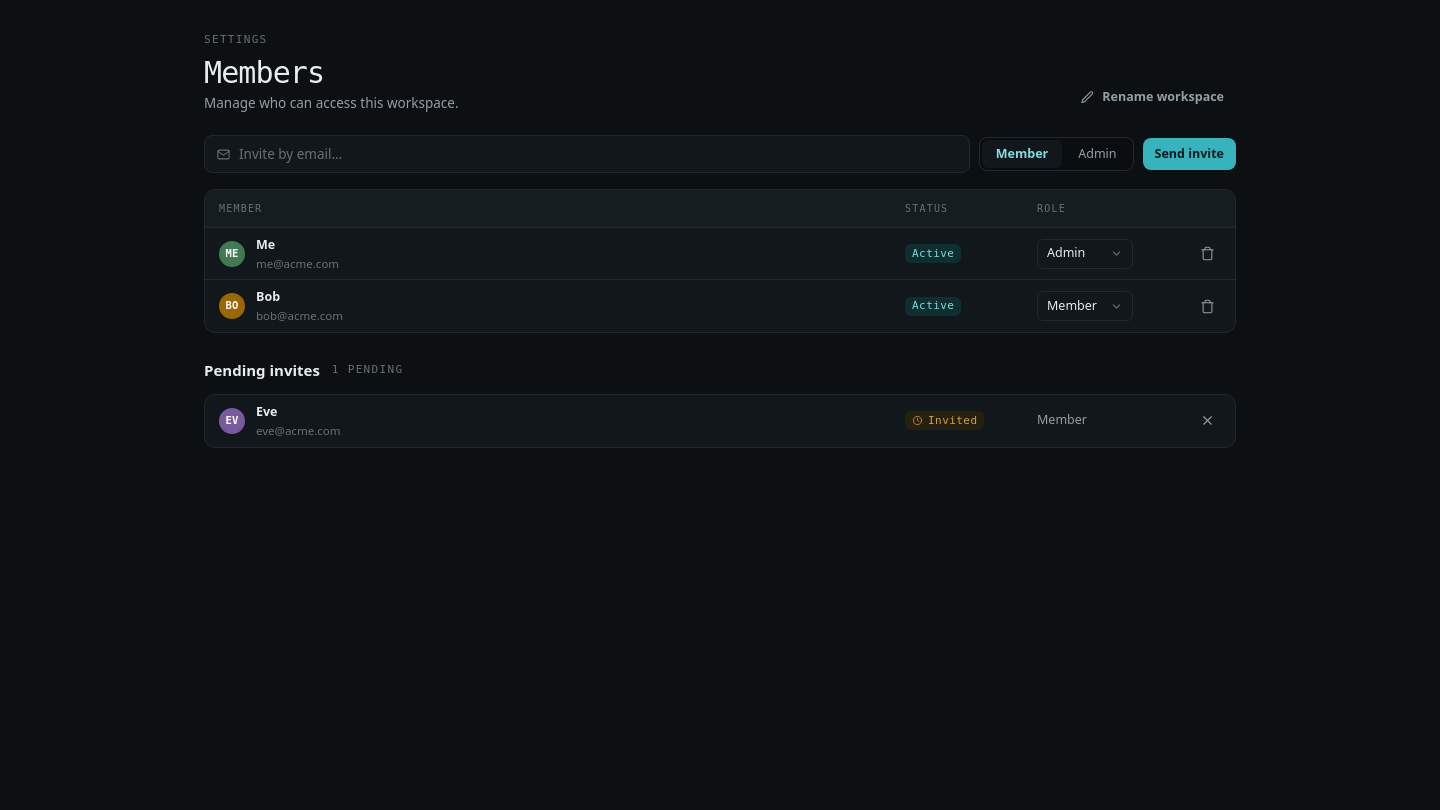
Test: workspaces-ui S-003 — members screen › AS-017: revoking a pending invite requires confirmation
The image size is (1440, 810).
Expected: the element with test id "invite-row-inv-eve" is shown, left=205, top=395, right=1235, bottom=447
Note: The ✕ opens a confirm dialog — it does NOT revoke on its own.
Click the button with test id "revoke-inv-eve".
click(1207, 421)  # box left=1193, top=407, right=1221, bottom=435
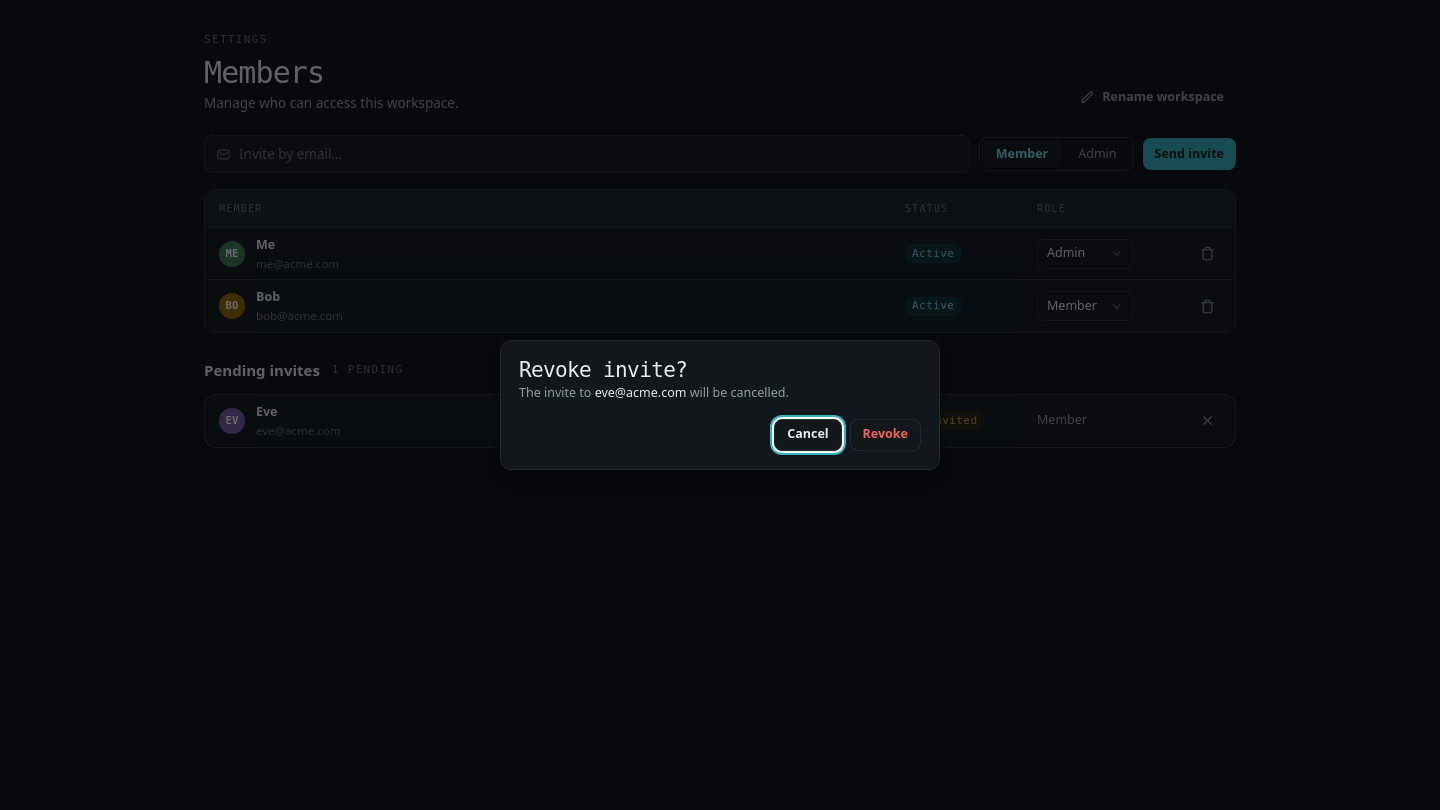
Click the button with test id "revoke-confirm-inv-eve".
click(885, 435)  # box left=850, top=419, right=921, bottom=451
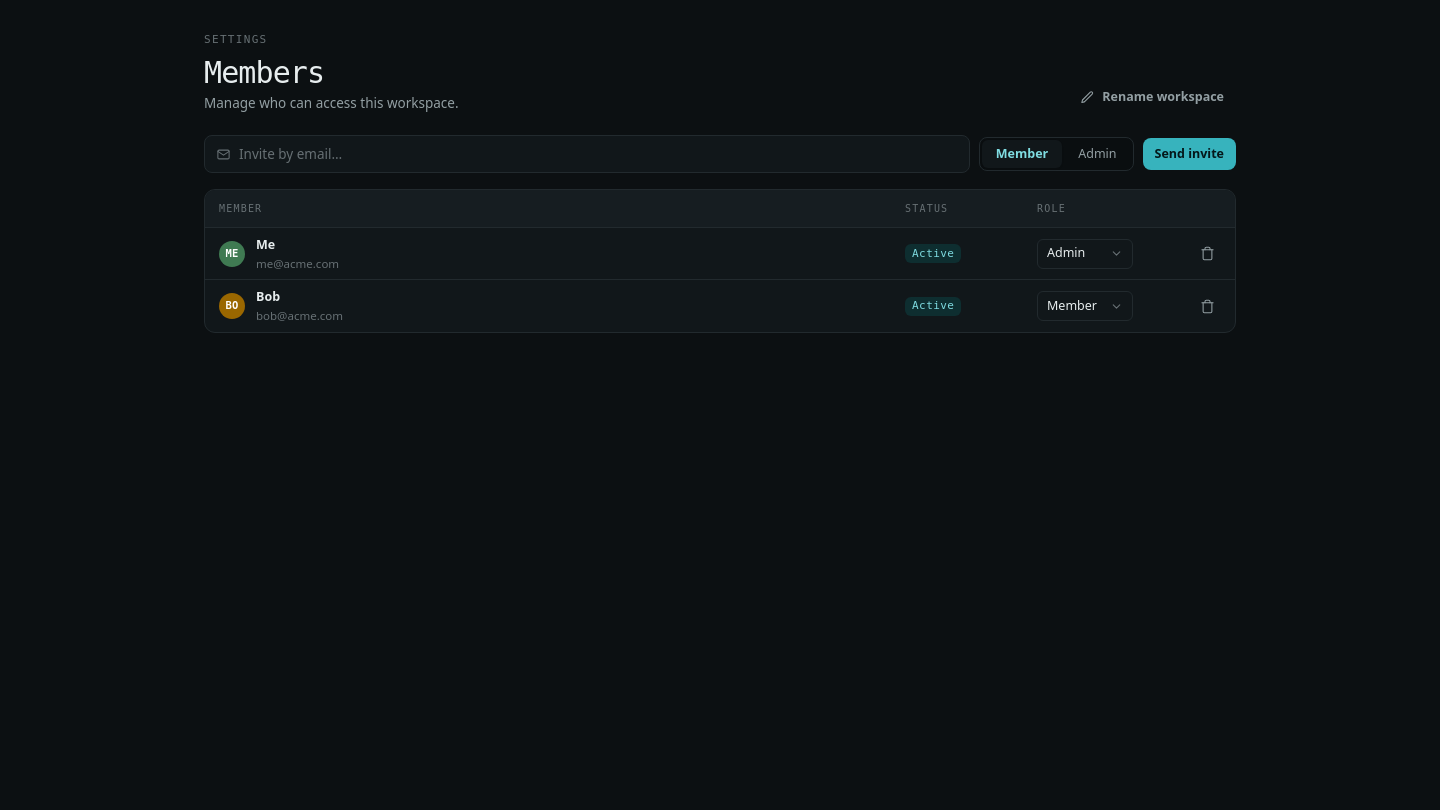
Expected: the element with test id "invite-row-inv-eve" is gone
